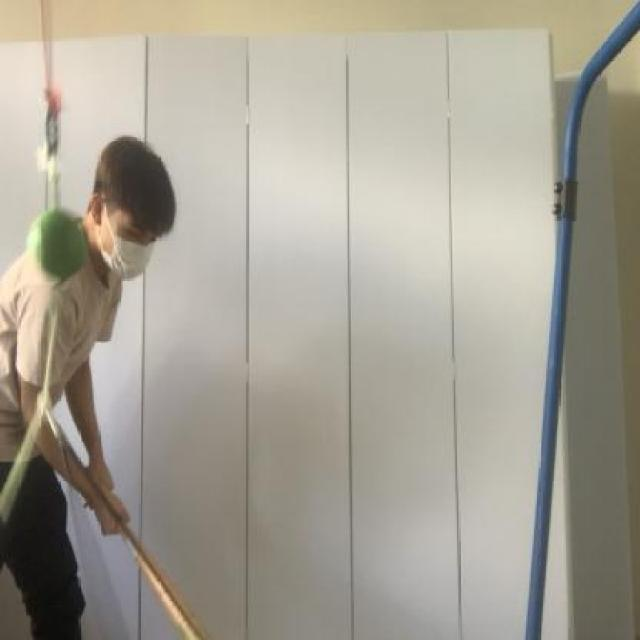baseball: (24, 193, 96, 301)
